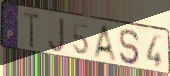4: (145, 33, 164, 70)
5: (71, 21, 90, 56)
A: (92, 24, 119, 65)
J: (47, 17, 66, 54)
S: (118, 28, 142, 67)
T: (22, 11, 41, 50)
